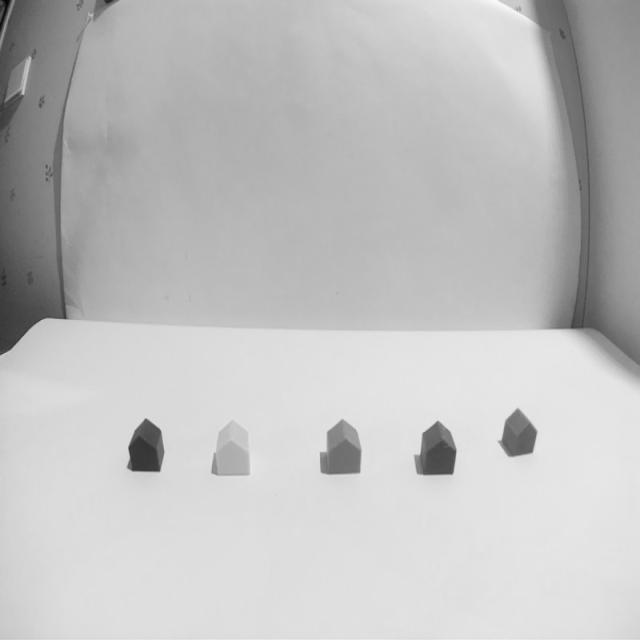home: (418, 421, 459, 476), (325, 419, 363, 475), (213, 421, 251, 476), (127, 418, 164, 472), (500, 407, 538, 457)
